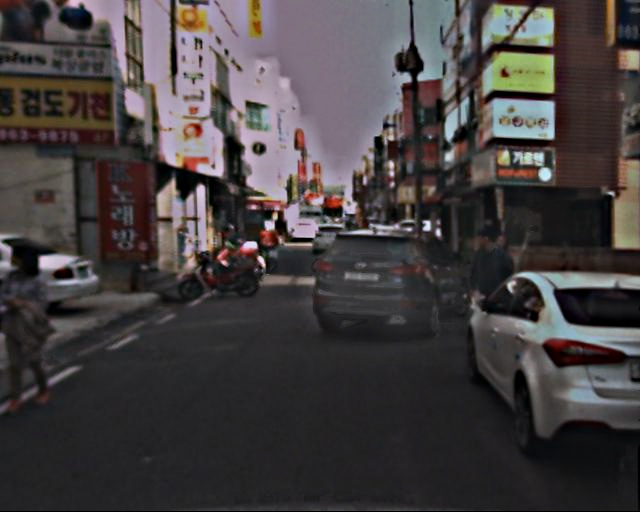person: (460, 227, 515, 348)
